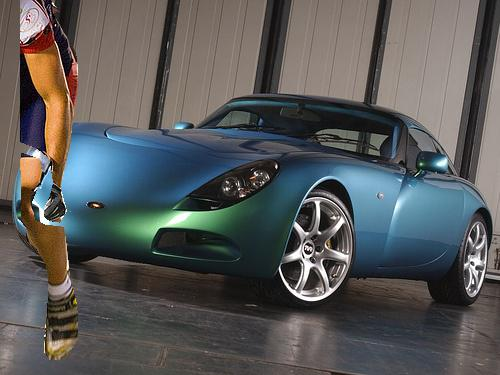tampered: (21, 1, 78, 360)
